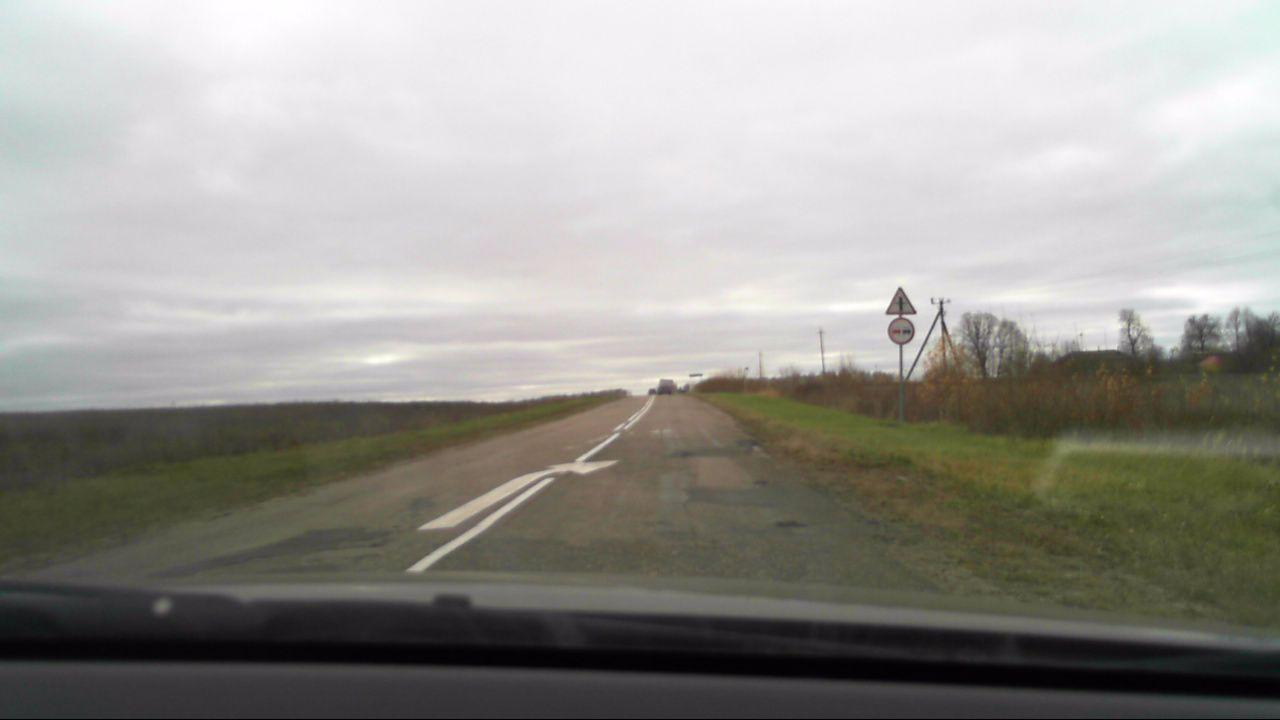2_3_1: (884, 285, 919, 313)
3_20: (888, 317, 921, 346)
